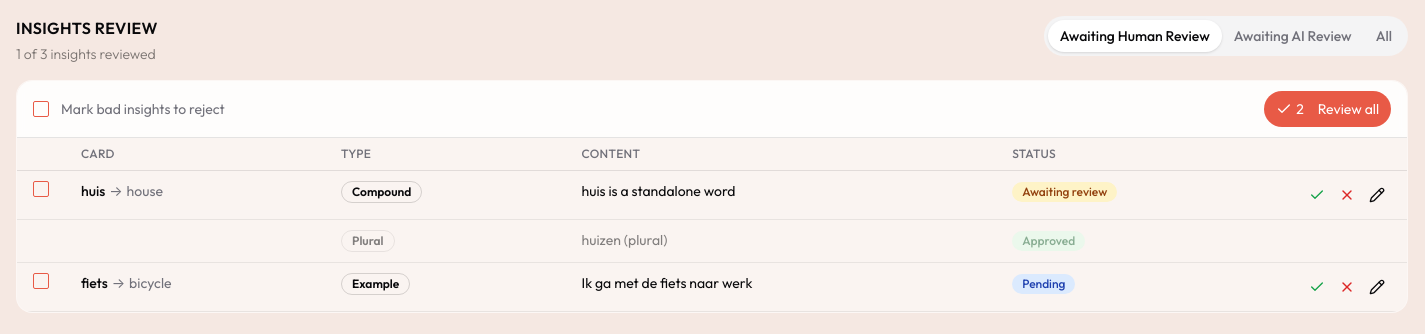
Test: InsightsReviewPage › cancels edit mode
Expected: the text "huis" is shown, [81,182,105,200]
Click the button named "Edit insight" in the row of "house" at (1377, 195), box [1363,181,1391,209]
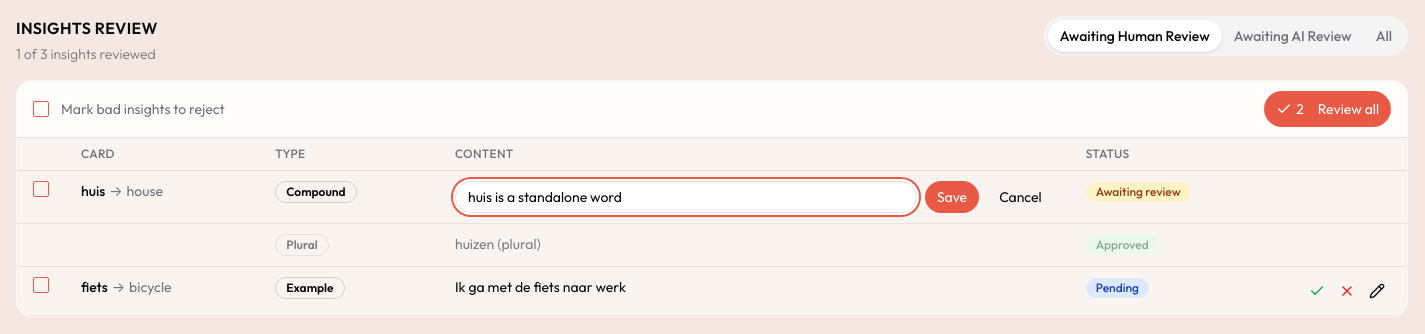
Expected: the field showing "huis is a standalone word" is shown, [455,181,917,213]
Click the button "Cancel" at (1020, 197), box [987,181,1054,213]
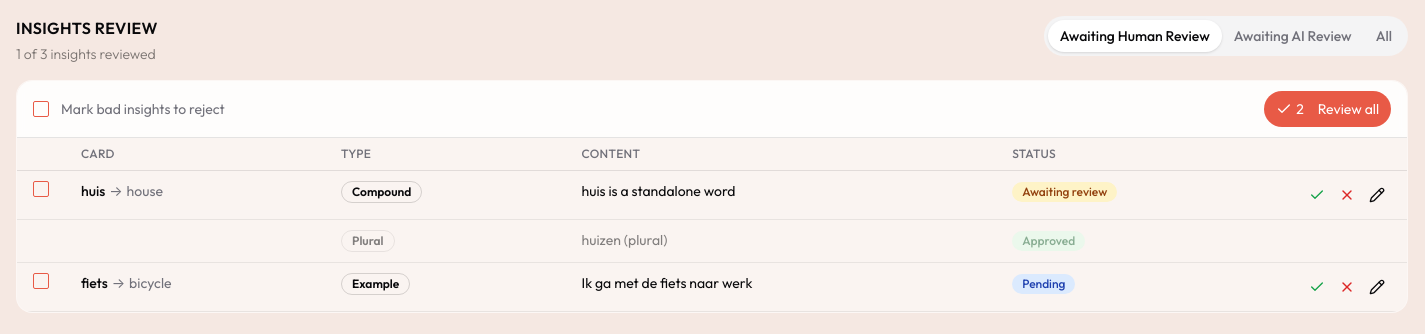
Expected: the text "huis is a standalone word" is shown, [582,182,735,200]
